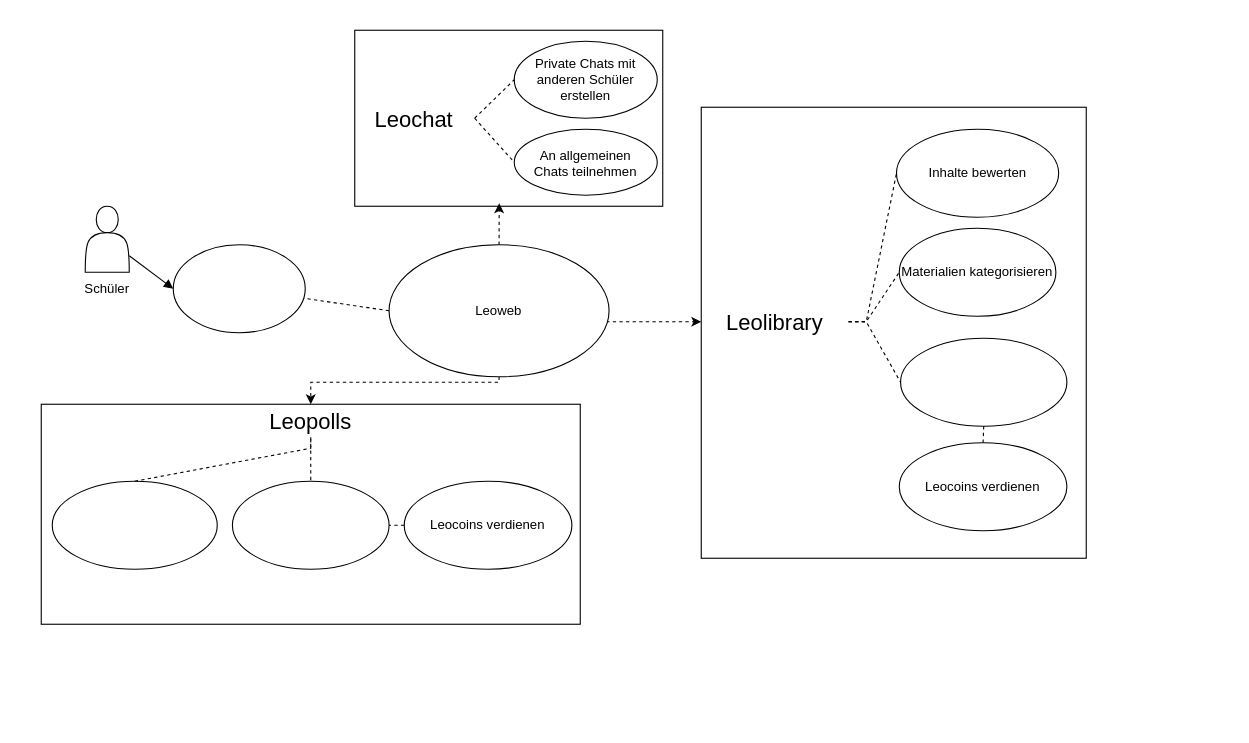
The diagram is 1249 pixels wide and 743 high, and some of its shapes have lost their labels. Here are the shapes that lost their labels. From the top down, the box of each, then its label:
(172, 244, 305, 333): Login
(899, 337, 1067, 426): Unterlagen hochladen
(51, 480, 217, 569): Umfrage erstellen
(231, 480, 389, 569): An Umfragen teilnehmen
